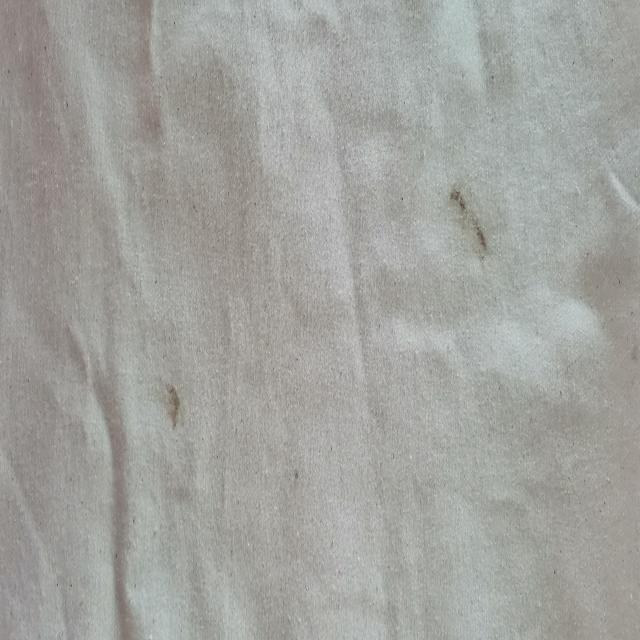taaaches: (444, 167, 494, 277), (161, 376, 189, 436)
